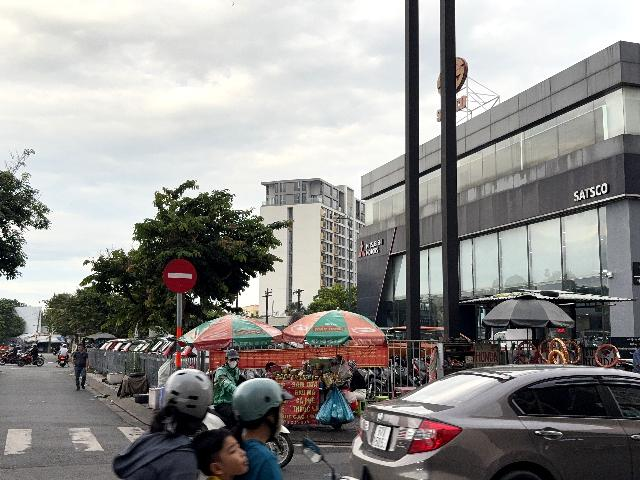cam-di-nguoc-chieu: (162, 259, 197, 293)
